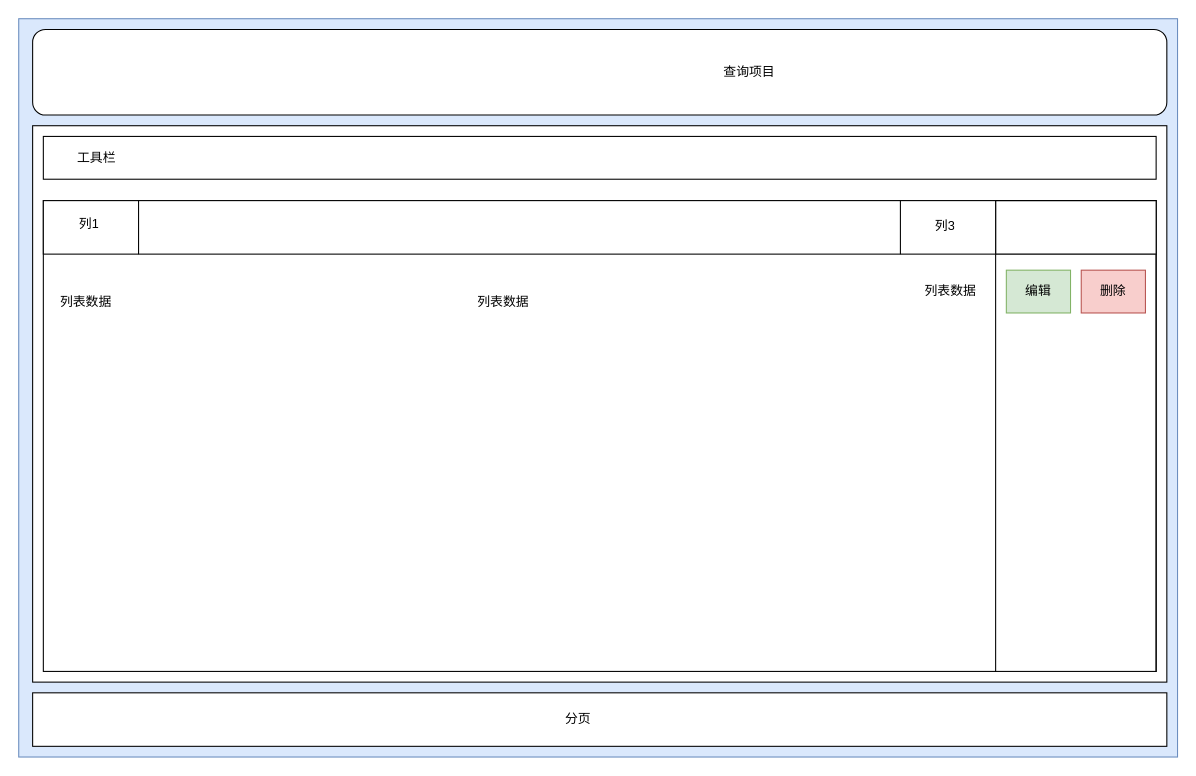
The diagram is 1196 pixels wide and 776 high, and some of its shapes have lost their labels. The box of each missing label's shape, as (x1, y1, x2, y2) in pixels:
操作: (995, 200, 1156, 254)
表格列名称: (42, 200, 996, 254)
